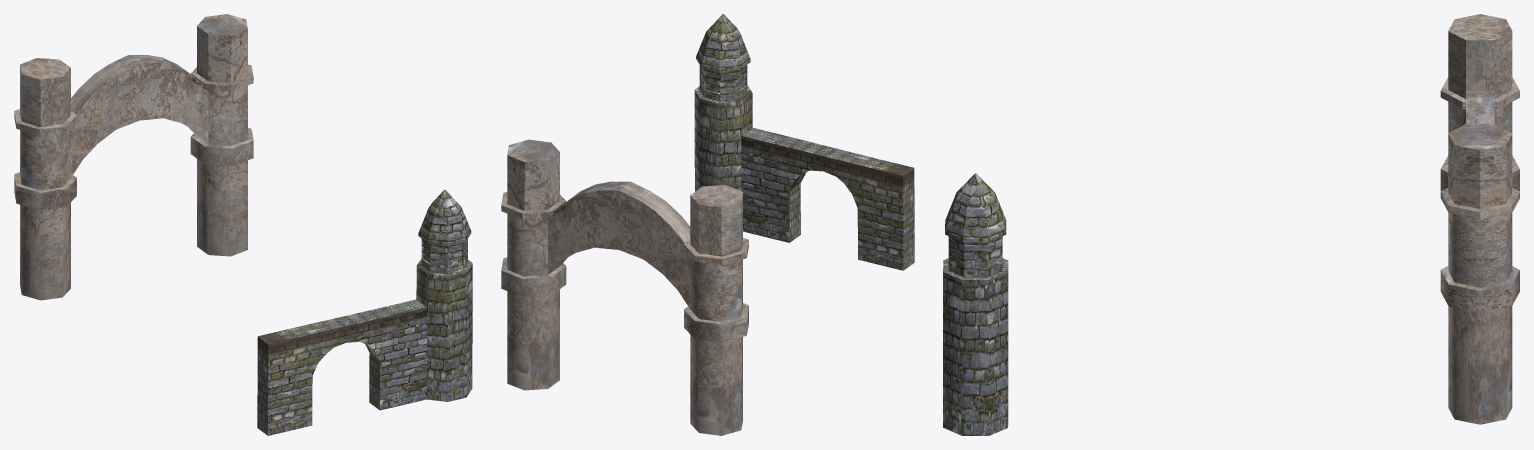
Rendered from wall.FBX.
3 views of the same model, side by side, from view 1: azimuth 30°, elevation 25°; view 2: azimuth 150°, elevation 25°; view 3: azimuth 270°, elevation 25° (orthographic). The views are drawn at different scales.
Visible parts, largest first — view 1: Cylinder002, Cylinder001; view 2: Cylinder002, Cylinder001; view 3: Cylinder002, Cylinder001.
Part boxes in pixels (bbox=[...]): Cylinder002: bbox=[14, 14, 253, 300]; Cylinder001: bbox=[257, 189, 472, 435]; Cylinder002: bbox=[501, 139, 748, 435]; Cylinder001: bbox=[694, 14, 914, 270]; Cylinder002: bbox=[1440, 14, 1519, 424]; Cylinder001: bbox=[943, 173, 1008, 435].
Bounding box in the file's own units: 157 × 133 × 254.
2 materials, 2 textured.
